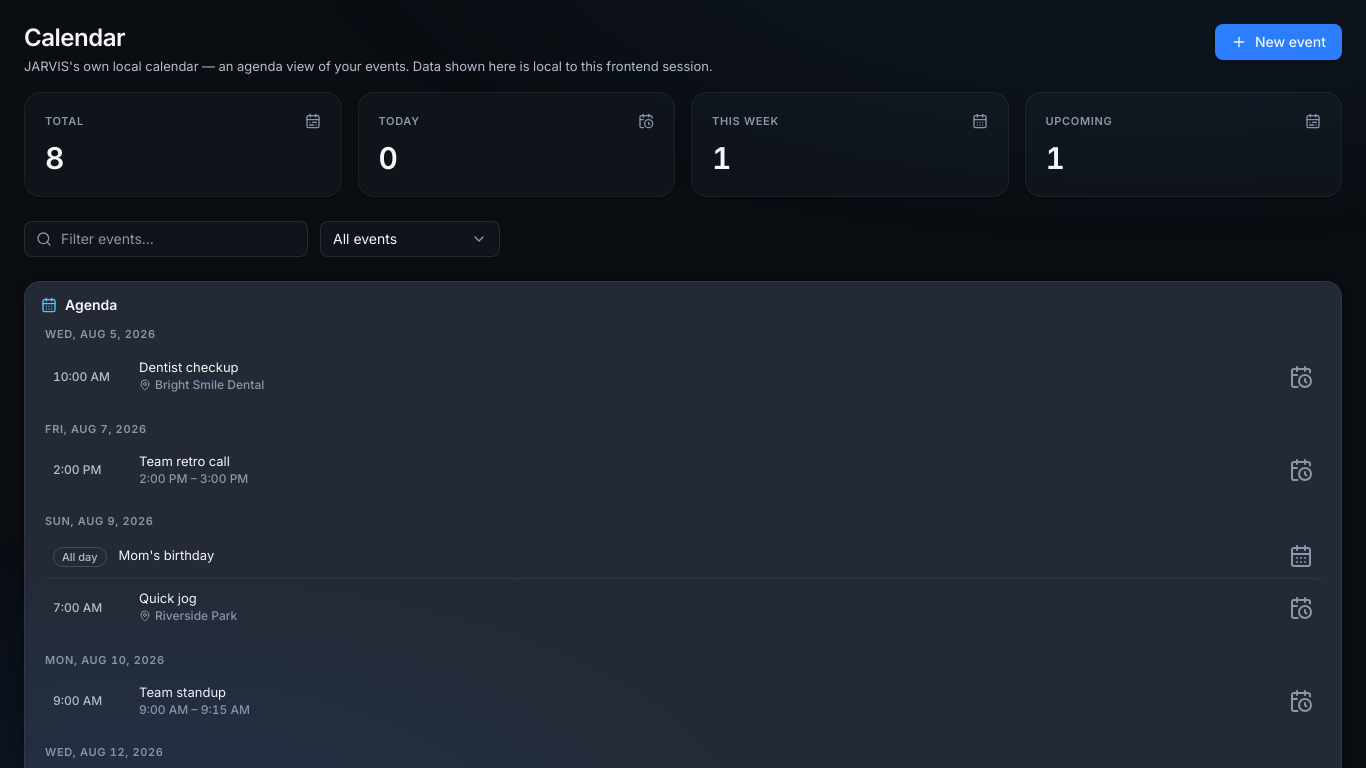
Scenario: CalendarPage › opens the detail drawer for an event
The image size is (1366, 768).
Click the button with test id "calendar-event-row-cal-2": (77, 469) [41,442,1325,498]
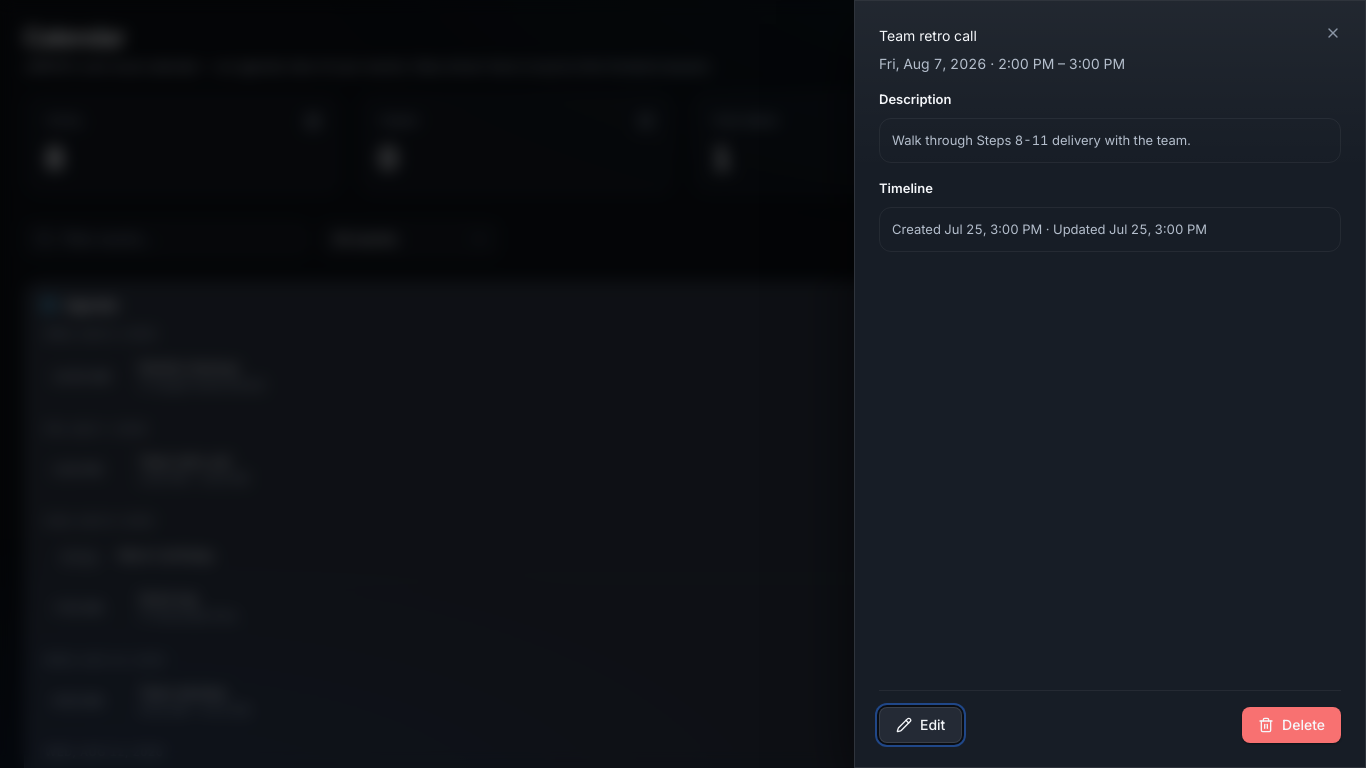
Check: the heading "Team retro call" is shown, box [879,25,977,47]
